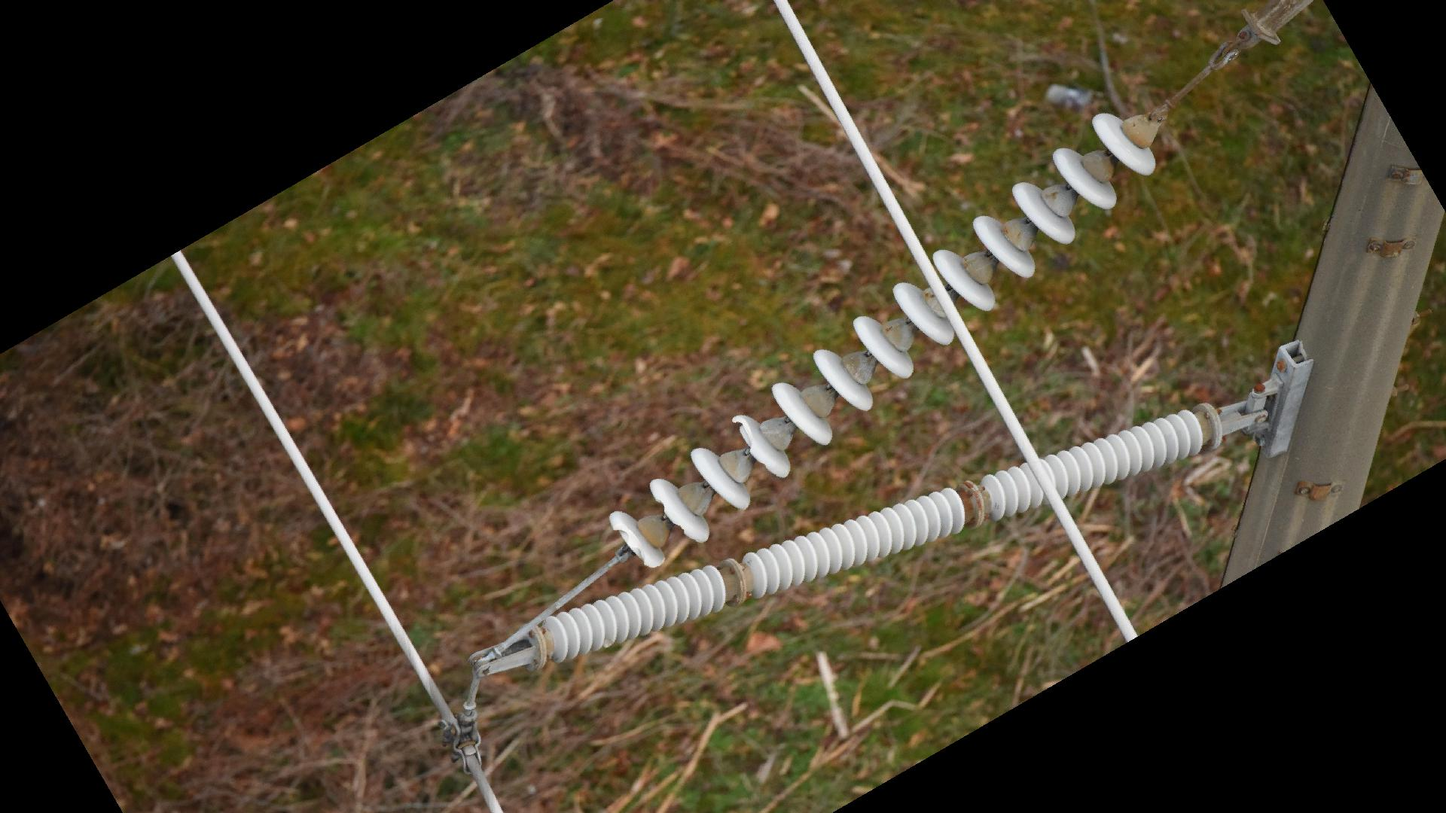insulator: (599, 105, 1164, 574), (980, 403, 1208, 524), (742, 483, 969, 604), (536, 560, 731, 667)
insulator_breakage: (609, 520, 654, 569), (654, 495, 691, 537), (729, 412, 759, 457)
